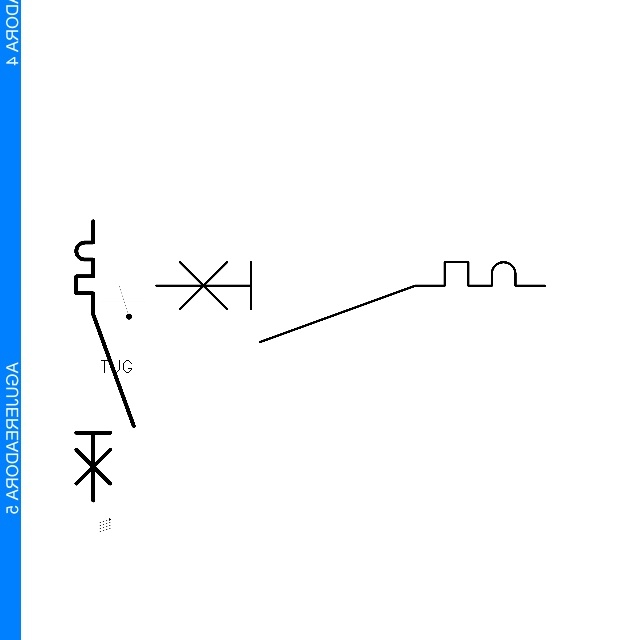interruptor_termomagnetico: (146, 252, 555, 352), (69, 214, 141, 507)
